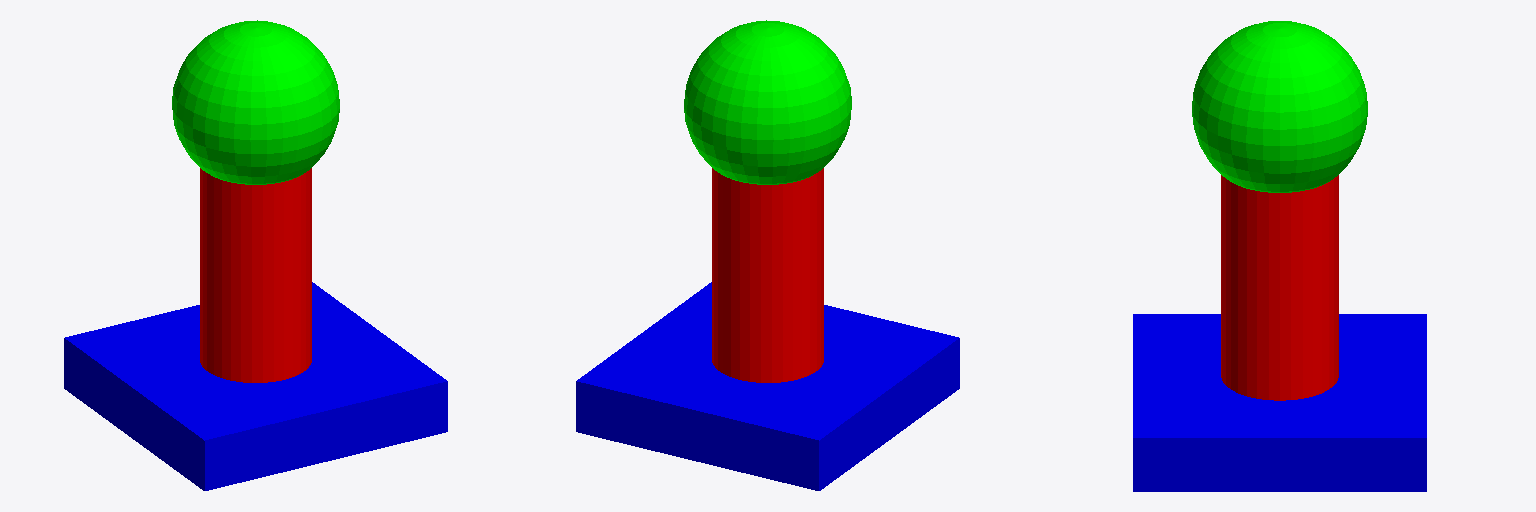
The robot description file, URDF, robot "figuras_basicas":
<?xml version="1.0"?>
<robot name="figuras_basicas">

  <link name="base_link">
    <visual>
      <geometry>
        <box size="0.5 0.5 0.1" />
      </geometry>
      <material name="Azul">
        <color rgba="0.0 0.0 1.0 1.0" />
      </material>
    </visual>
  </link>

  <link name="link_cilindro">
    <visual>
      <geometry>
        <cylinder radius="0.1" length="0.4" />
      </geometry>
      <material name="Rojo">
        <color rgba="1.0 0.0 0.0 1.0" />
      </material>
    </visual>
  </link>

  <link name="link_esfera">
    <visual>
      <geometry>
        <sphere radius="0.15" />
      </geometry>
      <material name="Verde">
        <color rgba="0.0 1.0 0.0 1.0" />
      </material>
    </visual>
  </link>

  <joint name="joint_base_a_cilindro" type="revolute">
    <parent link="base_link" />
    <child link="link_cilindro" />
    <origin xyz="0 0 0.25" rpy="0 0 0" />
    <axis xyz="0 0 1" />
    <limit lower="-3.14" upper="3.14" effort="10" velocity="1.0" />
  </joint>

  <joint name="joint_cilindro_a_esfera" type="fixed">
    <parent link="link_cilindro" />
    <child link="link_esfera" />
    <origin xyz="0 0 0.3" rpy="0 0 0" />
  </joint>

</robot>

--- What the picture shows (computed from the rendered views, not written in the file) ---
3 views of the same robot in one strip: view 1: azimuth 30°, elevation 25°; view 2: azimuth 150°, elevation 25°; view 3: azimuth 270°, elevation 25° (orthographic).
Model figuras_basicas with 3 links and 2 joints (1 revolute, 1 fixed), rooted at base_link, posed all joints at 0.
Visible links, largest first — view 1: base_link, link_cilindro, link_esfera; view 2: base_link, link_cilindro, link_esfera; view 3: base_link, link_cilindro, link_esfera.
Boxes of the visible links, <box> form: base_link: <box>64,282,447,490</box>; link_cilindro: <box>200,168,311,382</box>; link_esfera: <box>172,20,339,184</box>; base_link: <box>576,282,959,490</box>; link_cilindro: <box>712,168,823,382</box>; link_esfera: <box>684,20,851,184</box>; base_link: <box>1133,314,1426,491</box>; link_cilindro: <box>1221,175,1338,400</box>; link_esfera: <box>1192,21,1367,192</box>.
Bounding box of the posed robot: 0.5 × 0.5 × 0.75 m (x, y, z).
Geometry: primitives only (box / cylinder / sphere), no mesh files.
